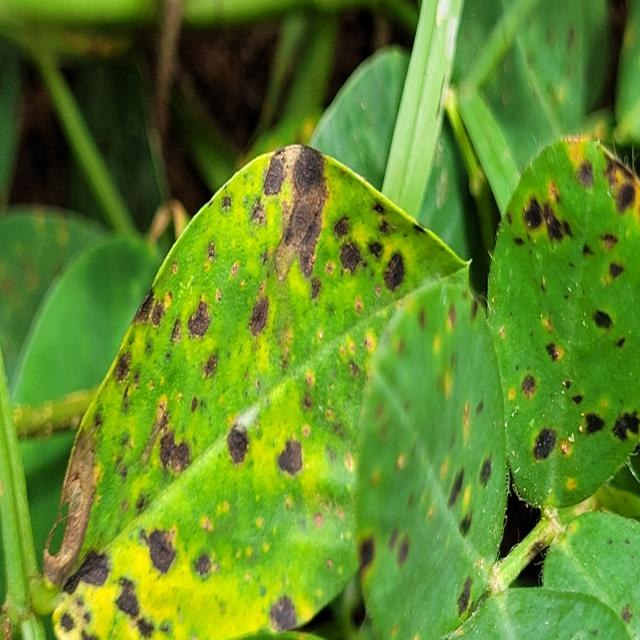Ground nut_tikka leaf spot: (27, 137, 473, 640)
